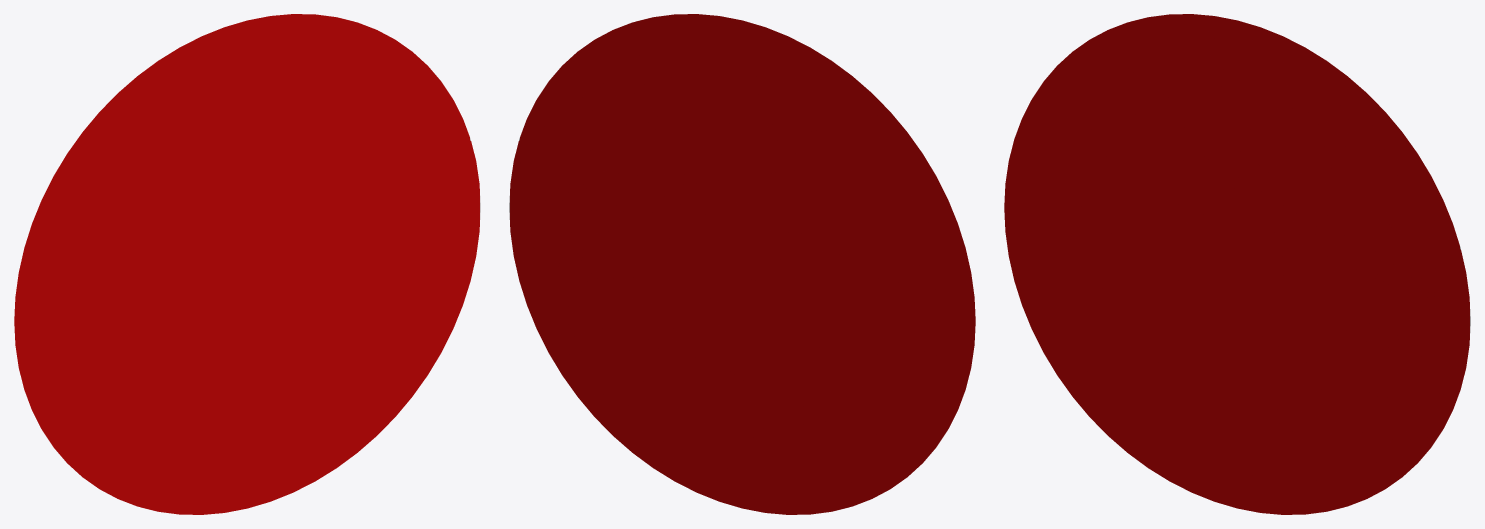
The model's file is baojing.FBX.
3 renders of one model, left to right at view 1: azimuth 30°, elevation 25°; view 2: azimuth 150°, elevation 25°; view 3: azimuth 330°, elevation 25°, orthographic.
Parts seen in each view (by area): view 1: Cylinder001; view 2: Cylinder001; view 3: Cylinder001.
Boxes of the visible parts, left/top/right/bottom form: Cylinder001: left=14, top=14, right=480, bottom=514; Cylinder001: left=509, top=14, right=975, bottom=514; Cylinder001: left=1004, top=14, right=1470, bottom=514.
Bounding box in the file's own units: 40 × 40 × 2.45e-15.
